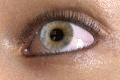eye: (41, 20, 74, 50)
